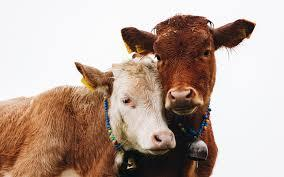cow: (121, 15, 256, 177), (2, 57, 176, 177)
